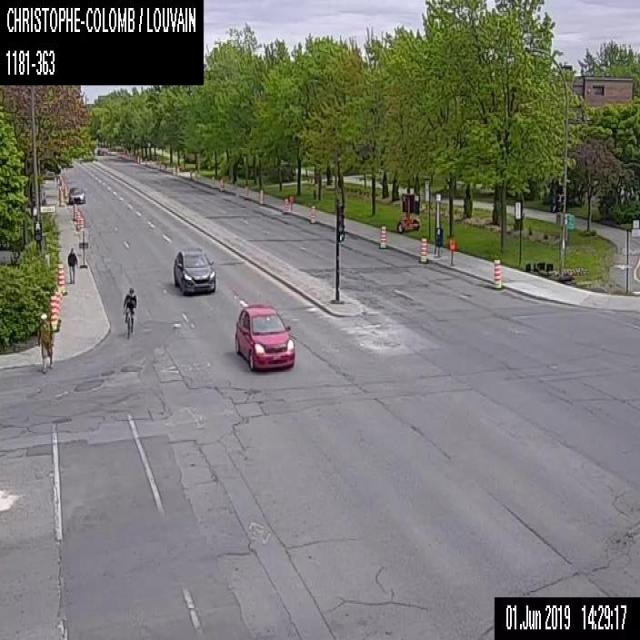construction: (396, 192, 419, 232), (78, 227, 88, 268), (491, 258, 502, 289), (50, 294, 59, 330), (58, 261, 66, 295), (418, 236, 428, 262), (378, 224, 387, 248), (54, 290, 60, 325), (57, 286, 62, 321), (449, 238, 455, 264), (309, 204, 316, 223), (282, 197, 289, 213), (75, 209, 80, 230), (258, 189, 264, 204), (58, 189, 63, 204), (289, 194, 293, 209), (73, 202, 76, 220), (78, 217, 83, 227), (188, 168, 192, 180), (63, 183, 66, 196), (220, 177, 223, 190), (245, 184, 248, 196), (194, 168, 197, 178)
cyclist: (122, 284, 136, 339)
pedestrian: (36, 313, 53, 372), (67, 245, 77, 283)
vehicle: (234, 302, 295, 370), (173, 245, 214, 295), (68, 185, 85, 201)
